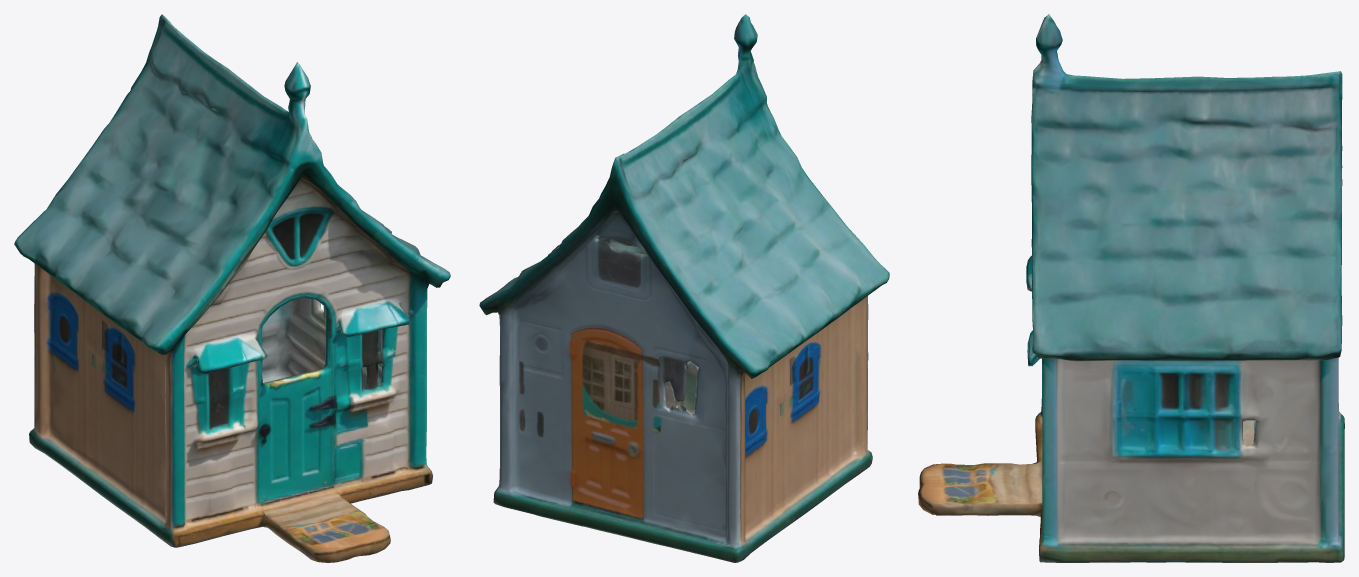
The model's file is farmhouse.glb.
The picture shows the model from 3 angles, left to right: view 1: azimuth 30°, elevation 25°; view 2: azimuth 150°, elevation 25°; view 3: azimuth 270°, elevation 25°; orthographic projection. The views are drawn at different scales.
Parts seen in each view (by area): view 1: Mesh1; view 2: Mesh1; view 3: Mesh1.
Part boxes in pixels (x1=…): Mesh1: x1=14, y1=14, x2=450, y2=562; Mesh1: x1=479, y1=14, x2=889, y2=562; Mesh1: x1=918, y1=14, x2=1344, y2=562.
Bounding box in the file's own units: 1.38 × 1.99 × 1.59.
1 material, 1 textured.
